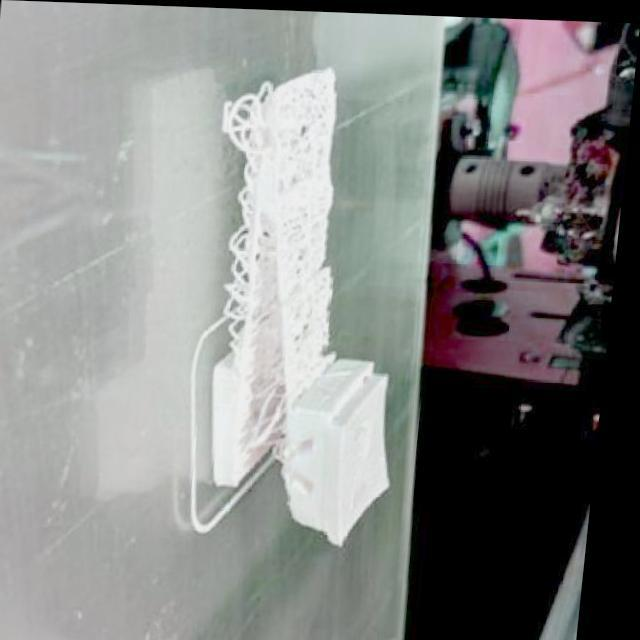spaghetti: (194, 60, 369, 453)
